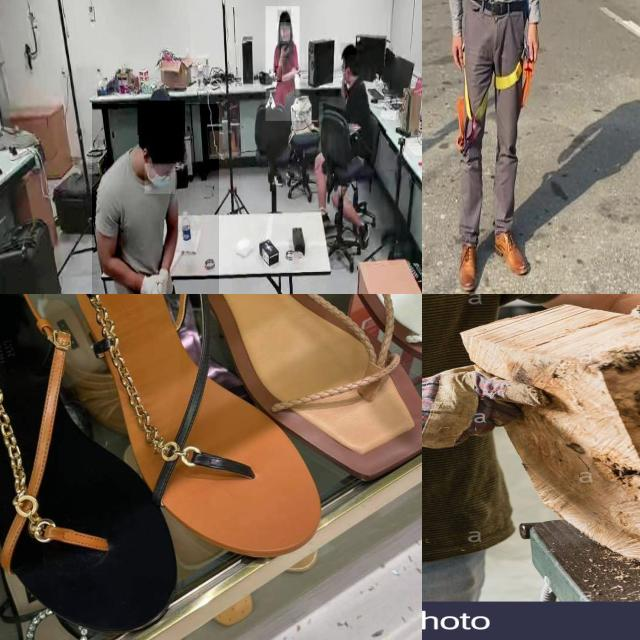Harness: (458, 46, 533, 154)
Sandals: (65, 294, 336, 578), (0, 294, 194, 640), (152, 294, 422, 477)
face_mask: (145, 164, 175, 194)
face_nomask: (280, 26, 290, 42)
hand_glove: (134, 266, 167, 294)
hand_noglove: (279, 44, 289, 58), (275, 66, 283, 82)
head_nohelmet: (137, 100, 185, 136), (341, 43, 357, 56), (278, 10, 292, 23)
person: (422, 294, 640, 600), (92, 104, 219, 294), (316, 45, 384, 258), (266, 6, 300, 122)
